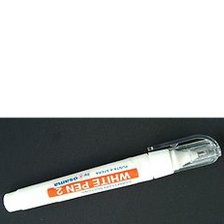correction_fluid: (1, 132, 223, 215)
